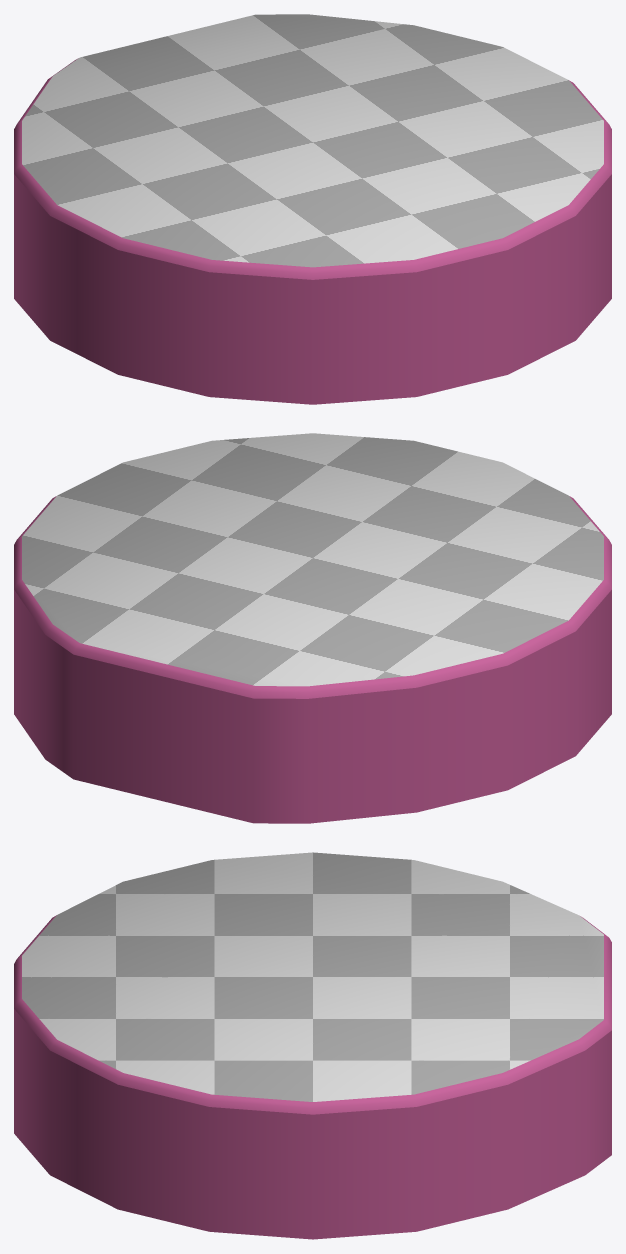
File: End.fbx
3 views of the same model, one above another, from view 1: azimuth 30°, elevation 25°; view 2: azimuth 150°, elevation 25°; view 3: azimuth 270°, elevation 25° (orthographic).
Parts seen in each view (by area): view 1: End; view 2: End; view 3: End.
Part boxes in pixels (x1=…): End: x1=14, y1=14, x2=611, y2=404; End: x1=14, y1=433, x2=611, y2=823; End: x1=14, y1=852, x2=611, y2=1239.
Size of the model in its own units: 634 by 154 by 625.
